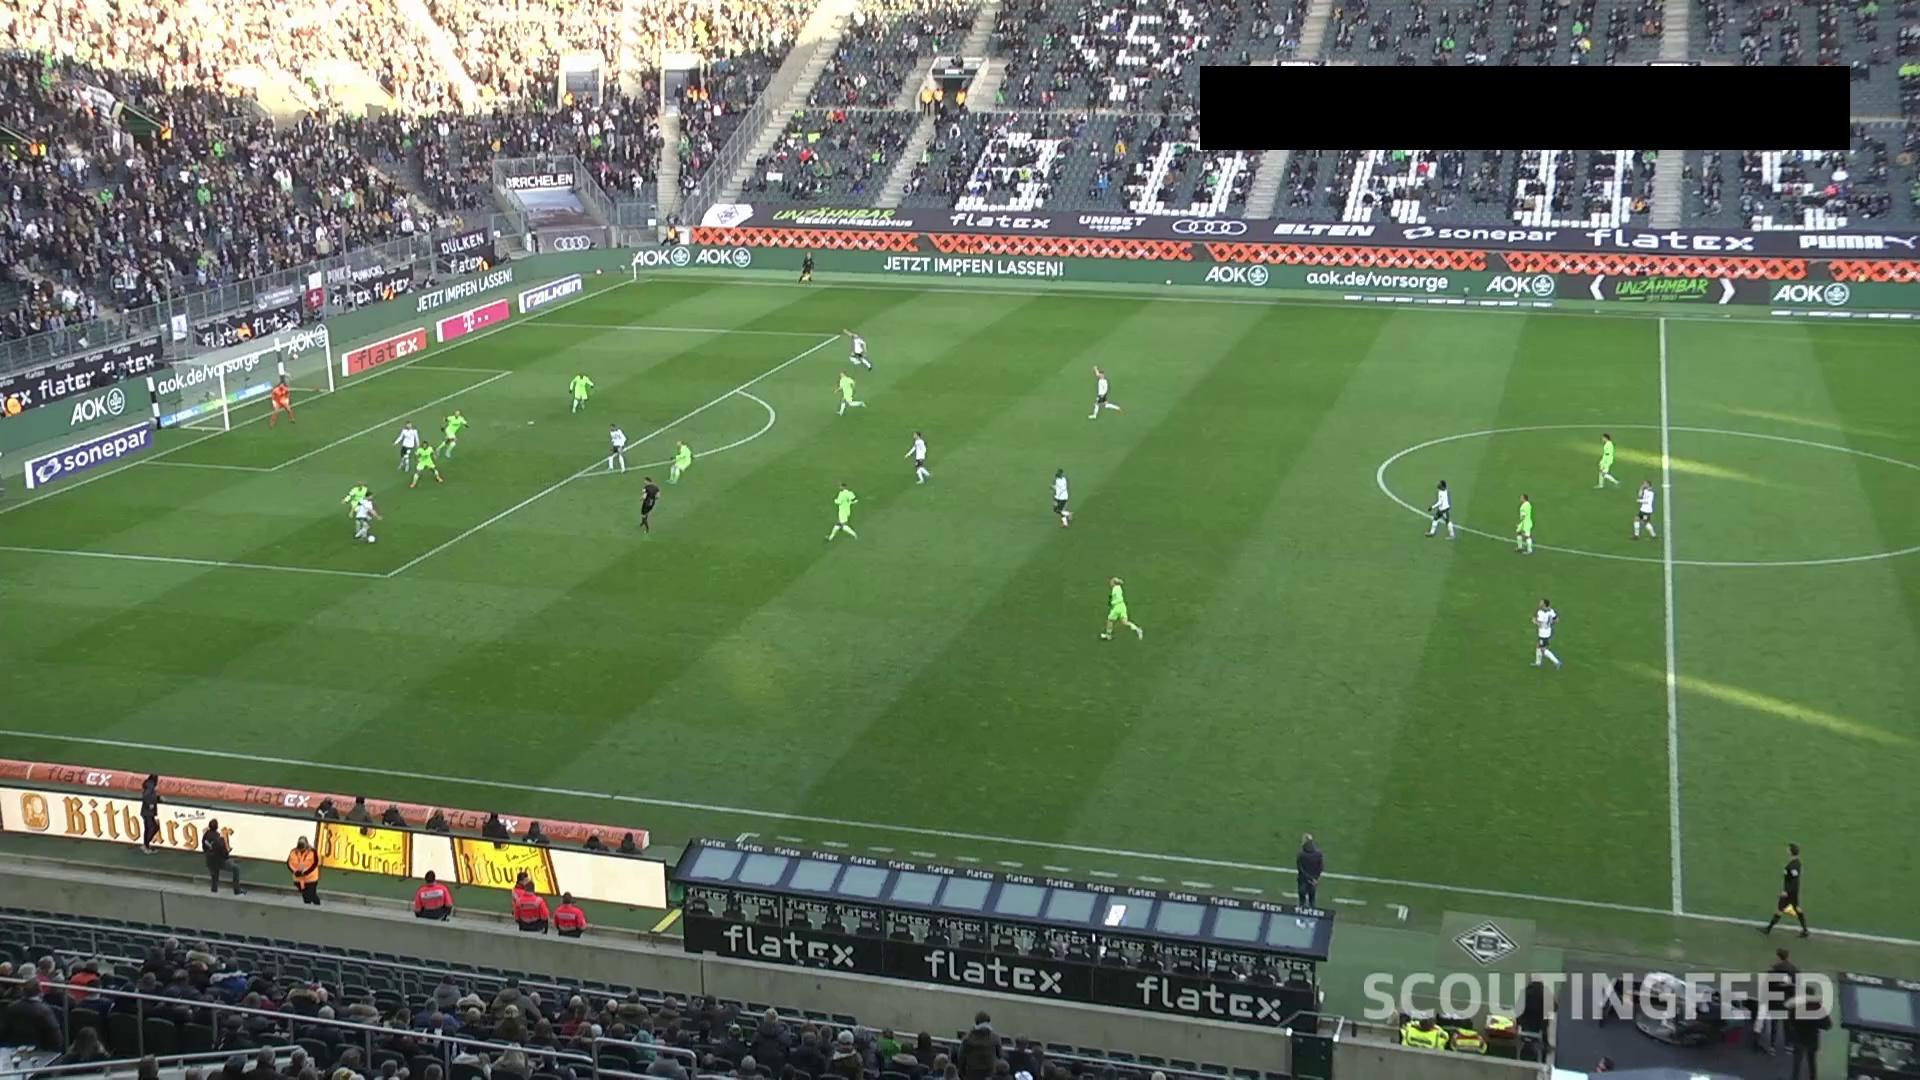Location-of-ball: (363, 525, 389, 550)
